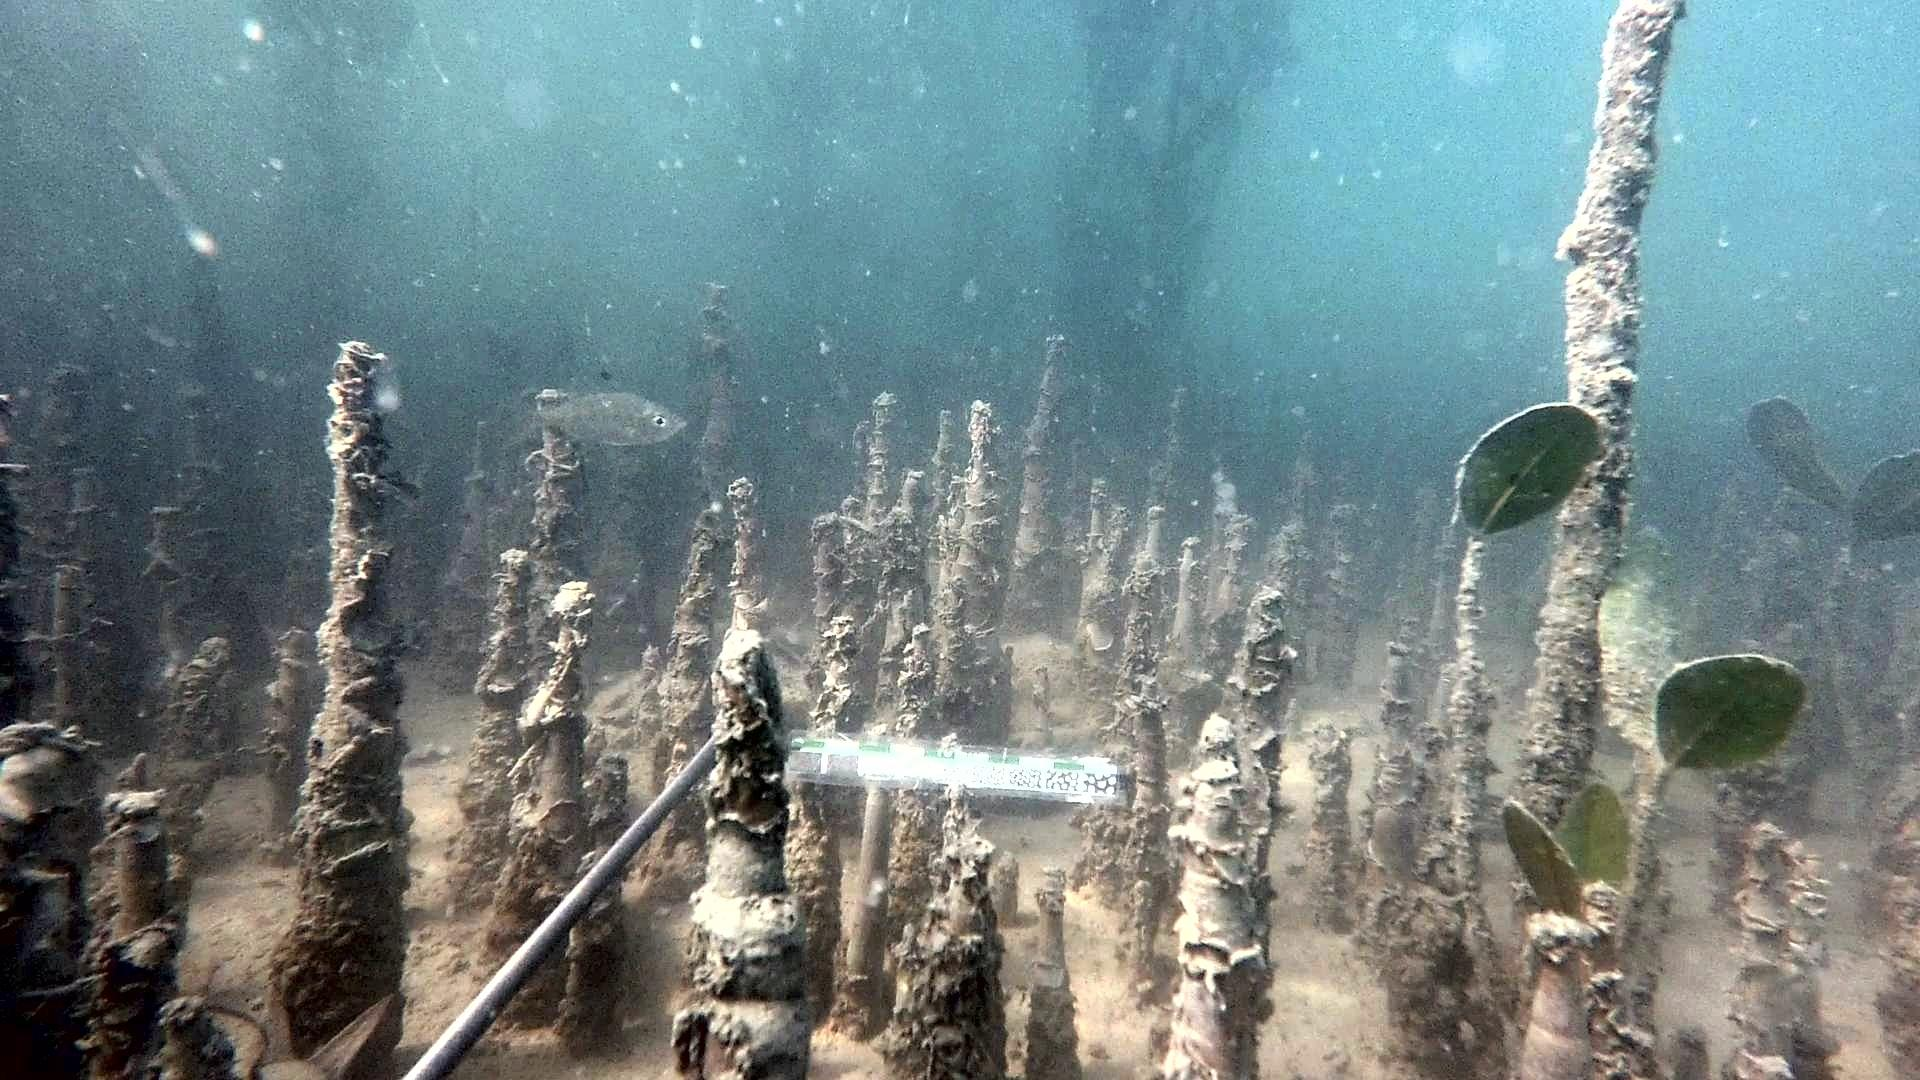gerres: (513, 367, 692, 450)
